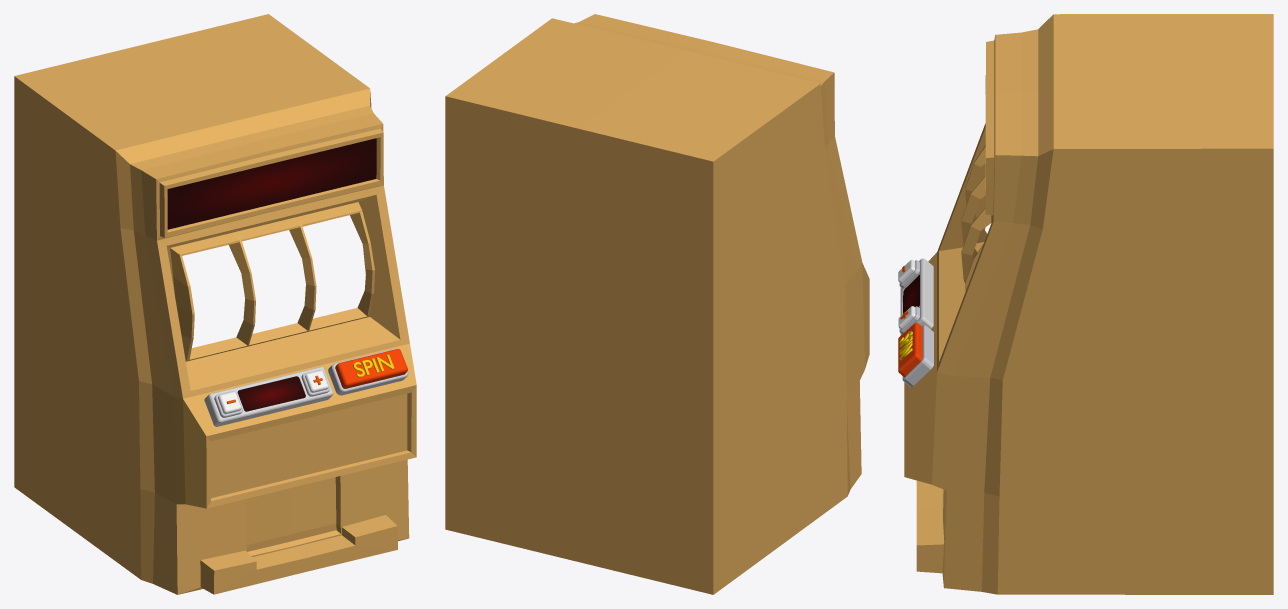
The model's file is slotmachine_all_0.glb.
The picture shows the model from 3 angles, left to right: view 1: azimuth 30°, elevation 25°; view 2: azimuth 150°, elevation 25°; view 3: azimuth 270°, elevation 25°; orthographic projection. The views are drawn at different scales.
Visible parts, largest first — view 1: machine, jackport, btn_frame, spin_btn, jackport_min, spin_frame; view 2: machine; view 3: machine, btn_frame, spin_btn, spin_frame.
Part boxes in pixels (bbox=[...]): machine: bbox=[14, 14, 416, 594]; jackport: bbox=[167, 138, 376, 229]; btn_frame: bbox=[204, 367, 333, 426]; spin_btn: bbox=[335, 349, 407, 388]; jackport_min: bbox=[237, 376, 305, 411]; spin_frame: bbox=[328, 348, 408, 395]; machine: bbox=[445, 14, 869, 594]; machine: bbox=[904, 14, 1273, 594]; btn_frame: bbox=[900, 258, 933, 335]; spin_btn: bbox=[898, 322, 922, 377]; spin_frame: bbox=[902, 325, 933, 387].
Size of the model in its own units: 1.27 by 1.96 by 1.49.
Materials: 9 (2 with a texture image).
